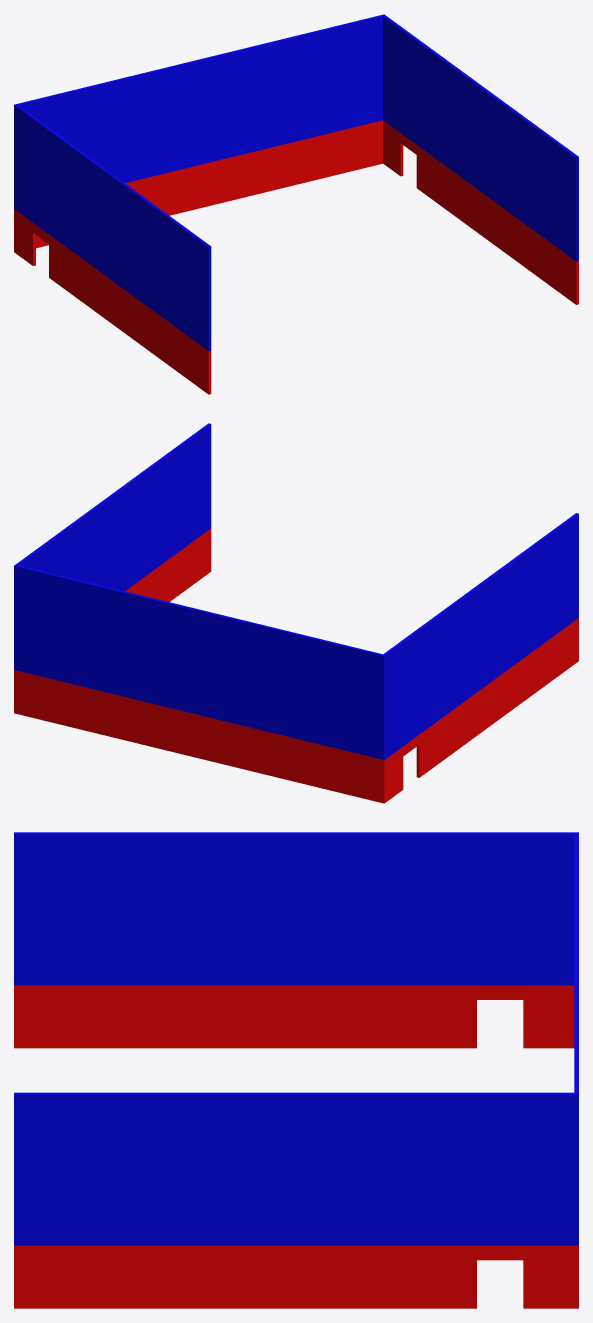
Rendered from SM_BarWall.FBX.
The picture shows the model from 3 angles, top to bottom: view 1: azimuth 30°, elevation 25°; view 2: azimuth 150°, elevation 25°; view 3: azimuth 270°, elevation 25°; orthographic projection. The views are drawn at different scales.
Parts seen in each view (by area): view 1: Object005; view 2: Object005; view 3: Object005.
Part boxes in pixels (left/top/right/bottom): Object005: left=14, top=14, right=578, bottom=394; Object005: left=14, top=423, right=578, bottom=803; Object005: left=14, top=832, right=578, bottom=1308.
Size of the model in its own units: 2680 by 1020 by 2440.
